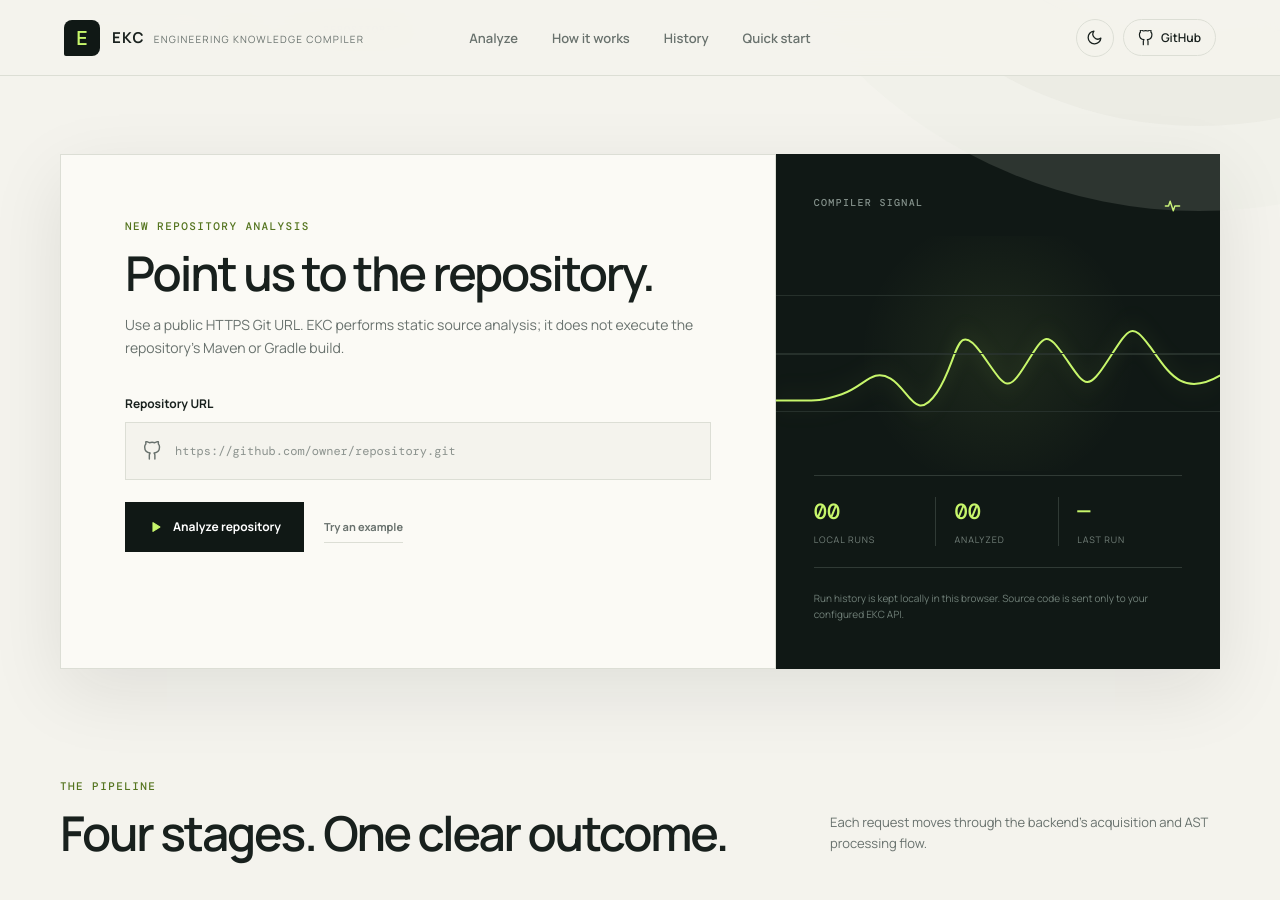
it: EKC console › submits a repository and adds it to history
The image size is (1280, 900).
(page scrolled)
Type "https://github.com/acme/platform.git" into the field labelled "Repository URL".
click(427, 451); type("https://github.com/acme/platform.git")  # box [162,423,693,479]
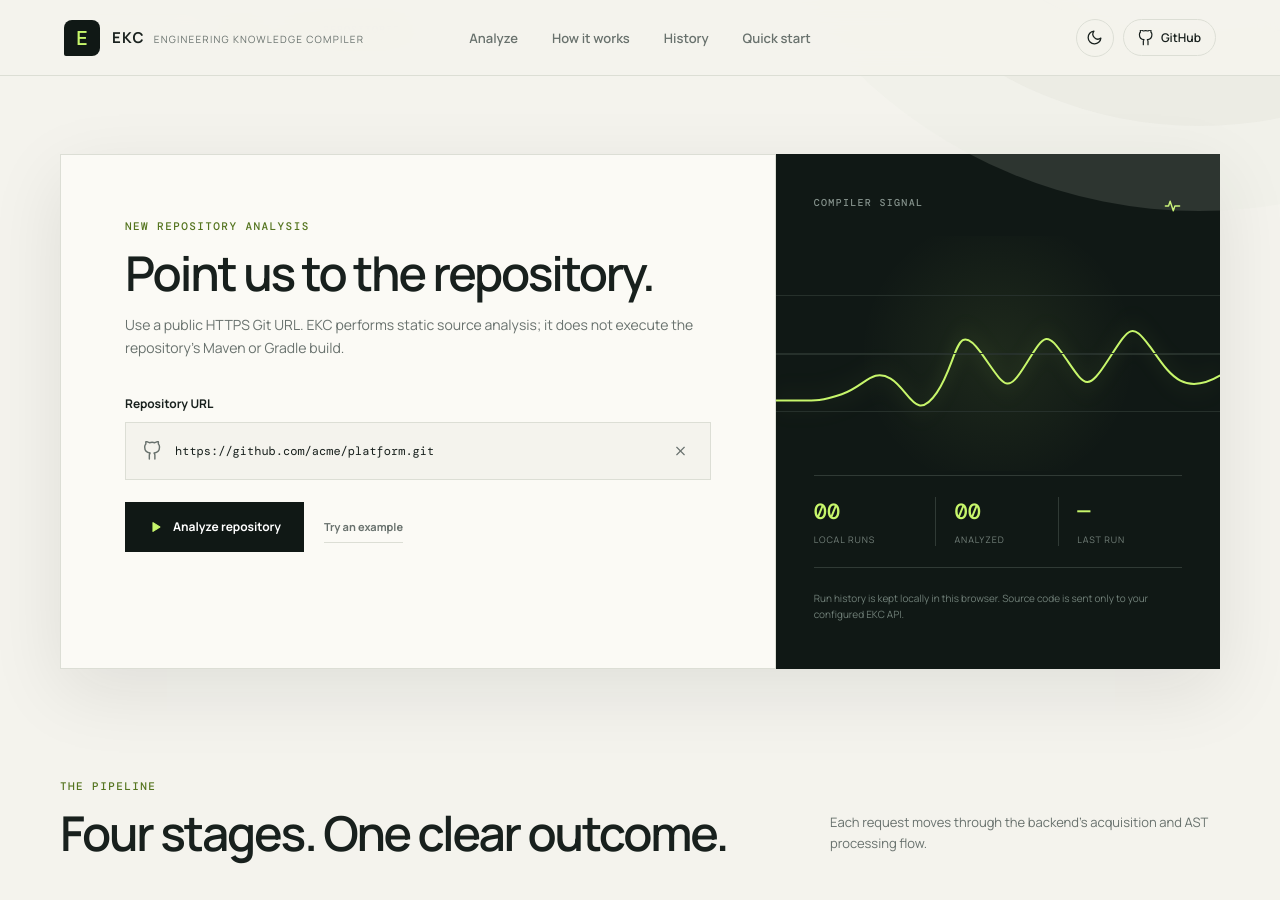
Click the button "Analyze repository".
click(214, 527)  # box [125,502,304,552]
(page scrolled)
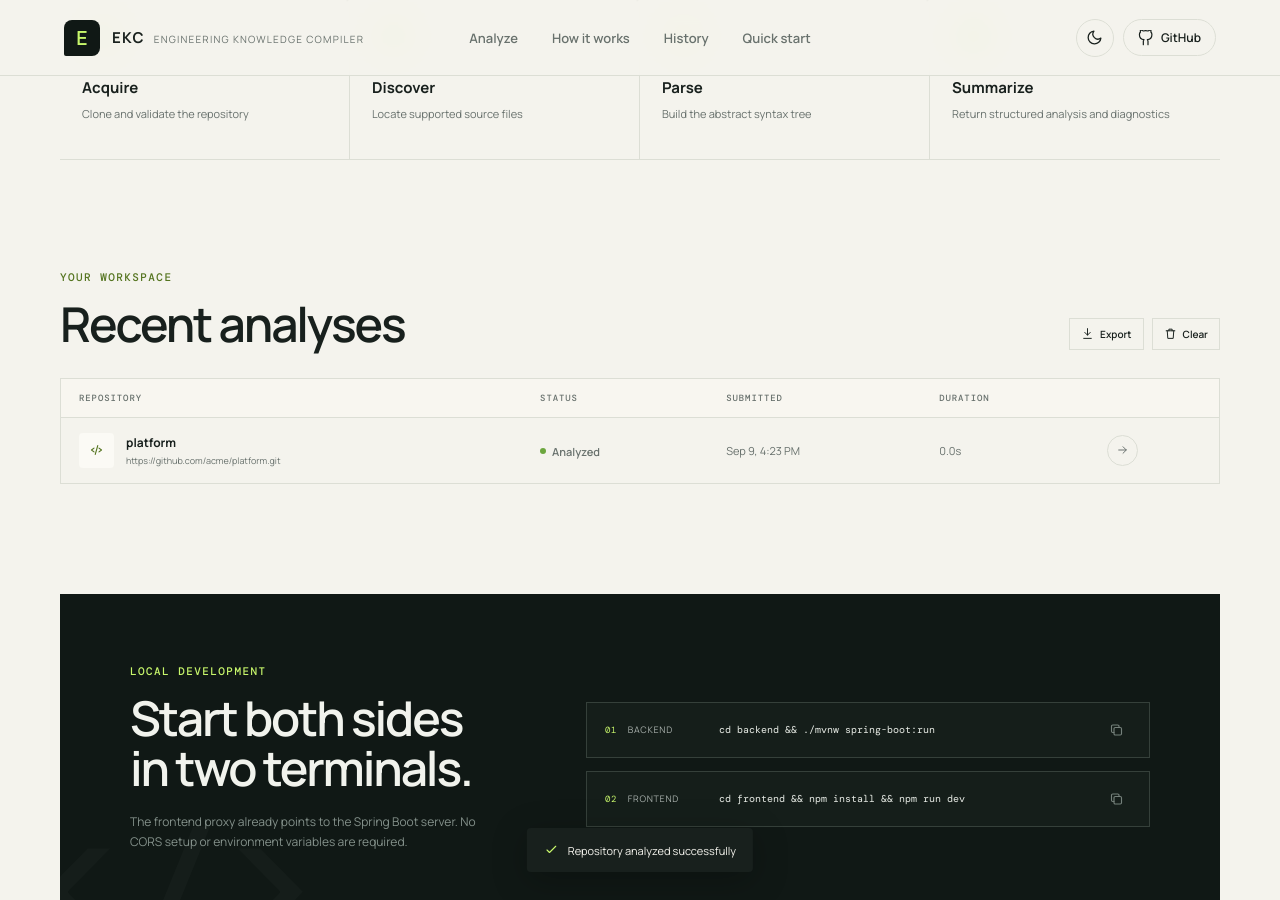
Expected: the text "platform" is shown, [126,434,176,451]
Expected: the text "Analyzed" is shown, [540,444,600,458]
Click the button named "View platform details".
click(1122, 450)  # box [1107,435,1138,466]
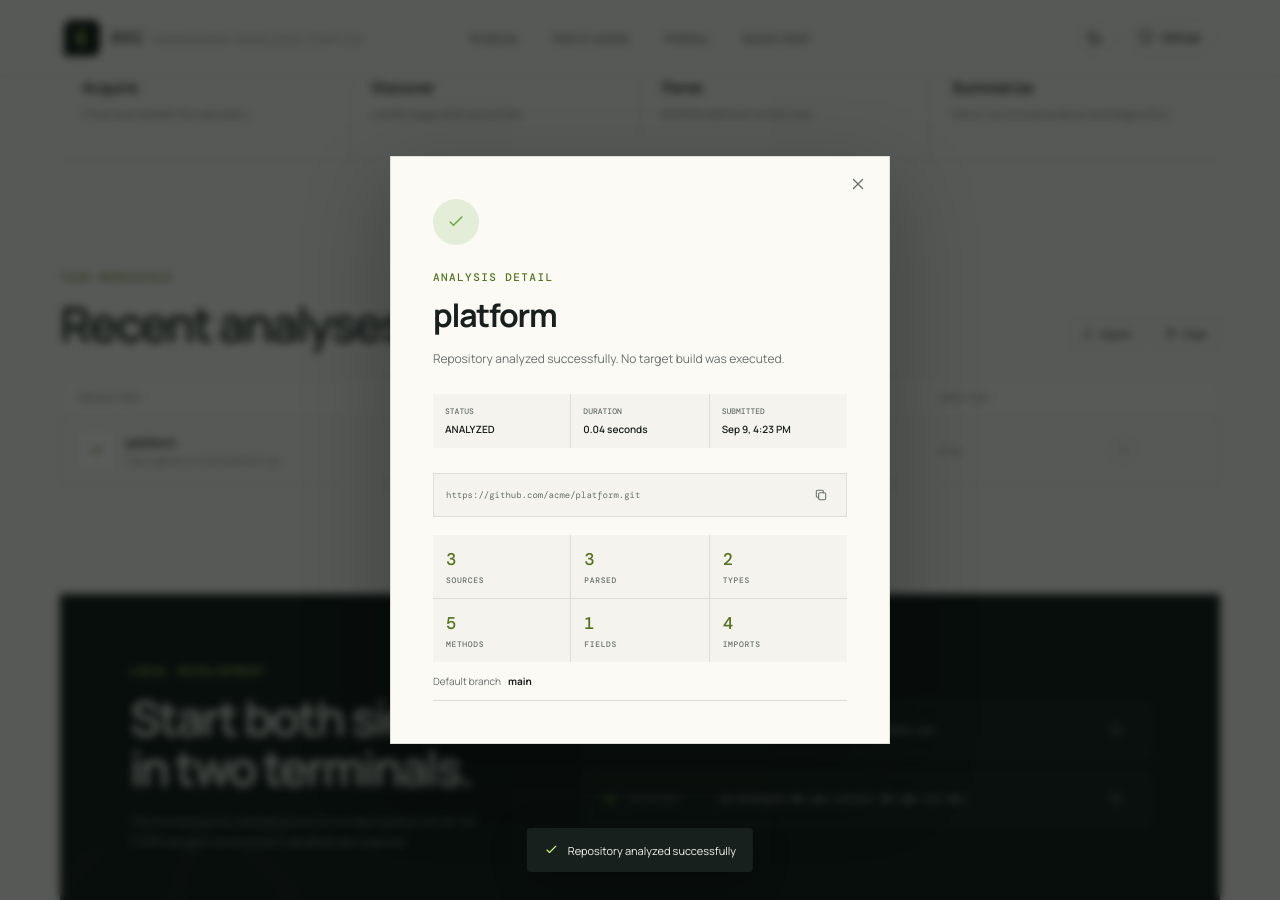
Expected: the element named "Repository analysis summary" shows "Sources", [446,575,484,585]
Expected: the element named "Repository analysis summary" shows "Methods", [446,639,484,649]
